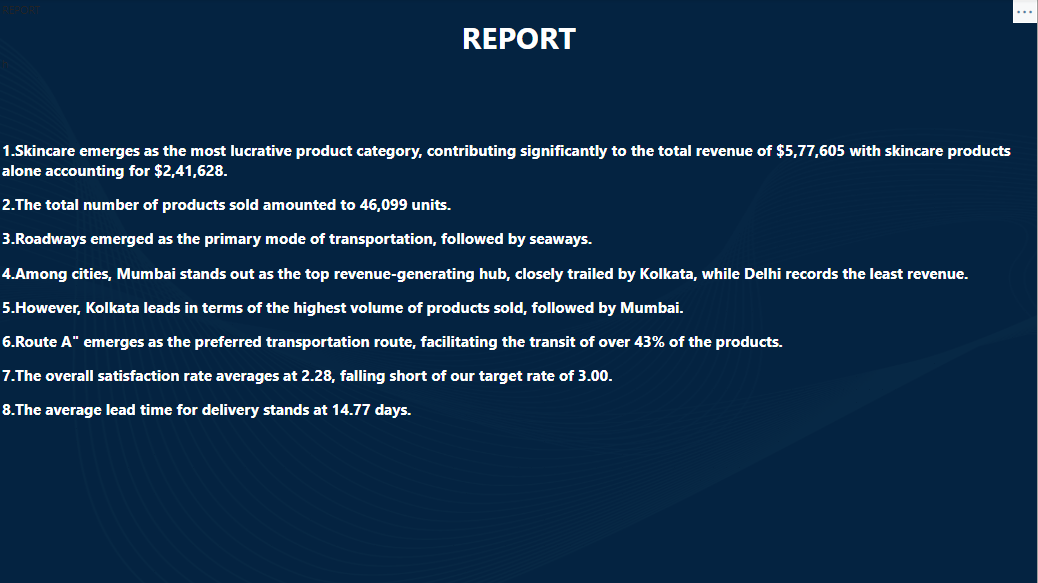

This screenshot's page, from the dashboard's own definition file:
{"tool":"powerbi","page":{"name":"Page 2","canvas":[1280,720],"ordinal":1},"visuals":[{"type":"textbox","box":[0,0,1280.2,720],"z":0}]}

Visuals, with their boxes on the page's 1280x720 design canvas (x1, y1, x2, y2). These are canvas units, not pixel positions in the 1038x583 screenshot, which may show the page scaled, cropped or inside an application window:
textbox: pyautogui.locateOnScreen(0, 0, 1280, 720)
